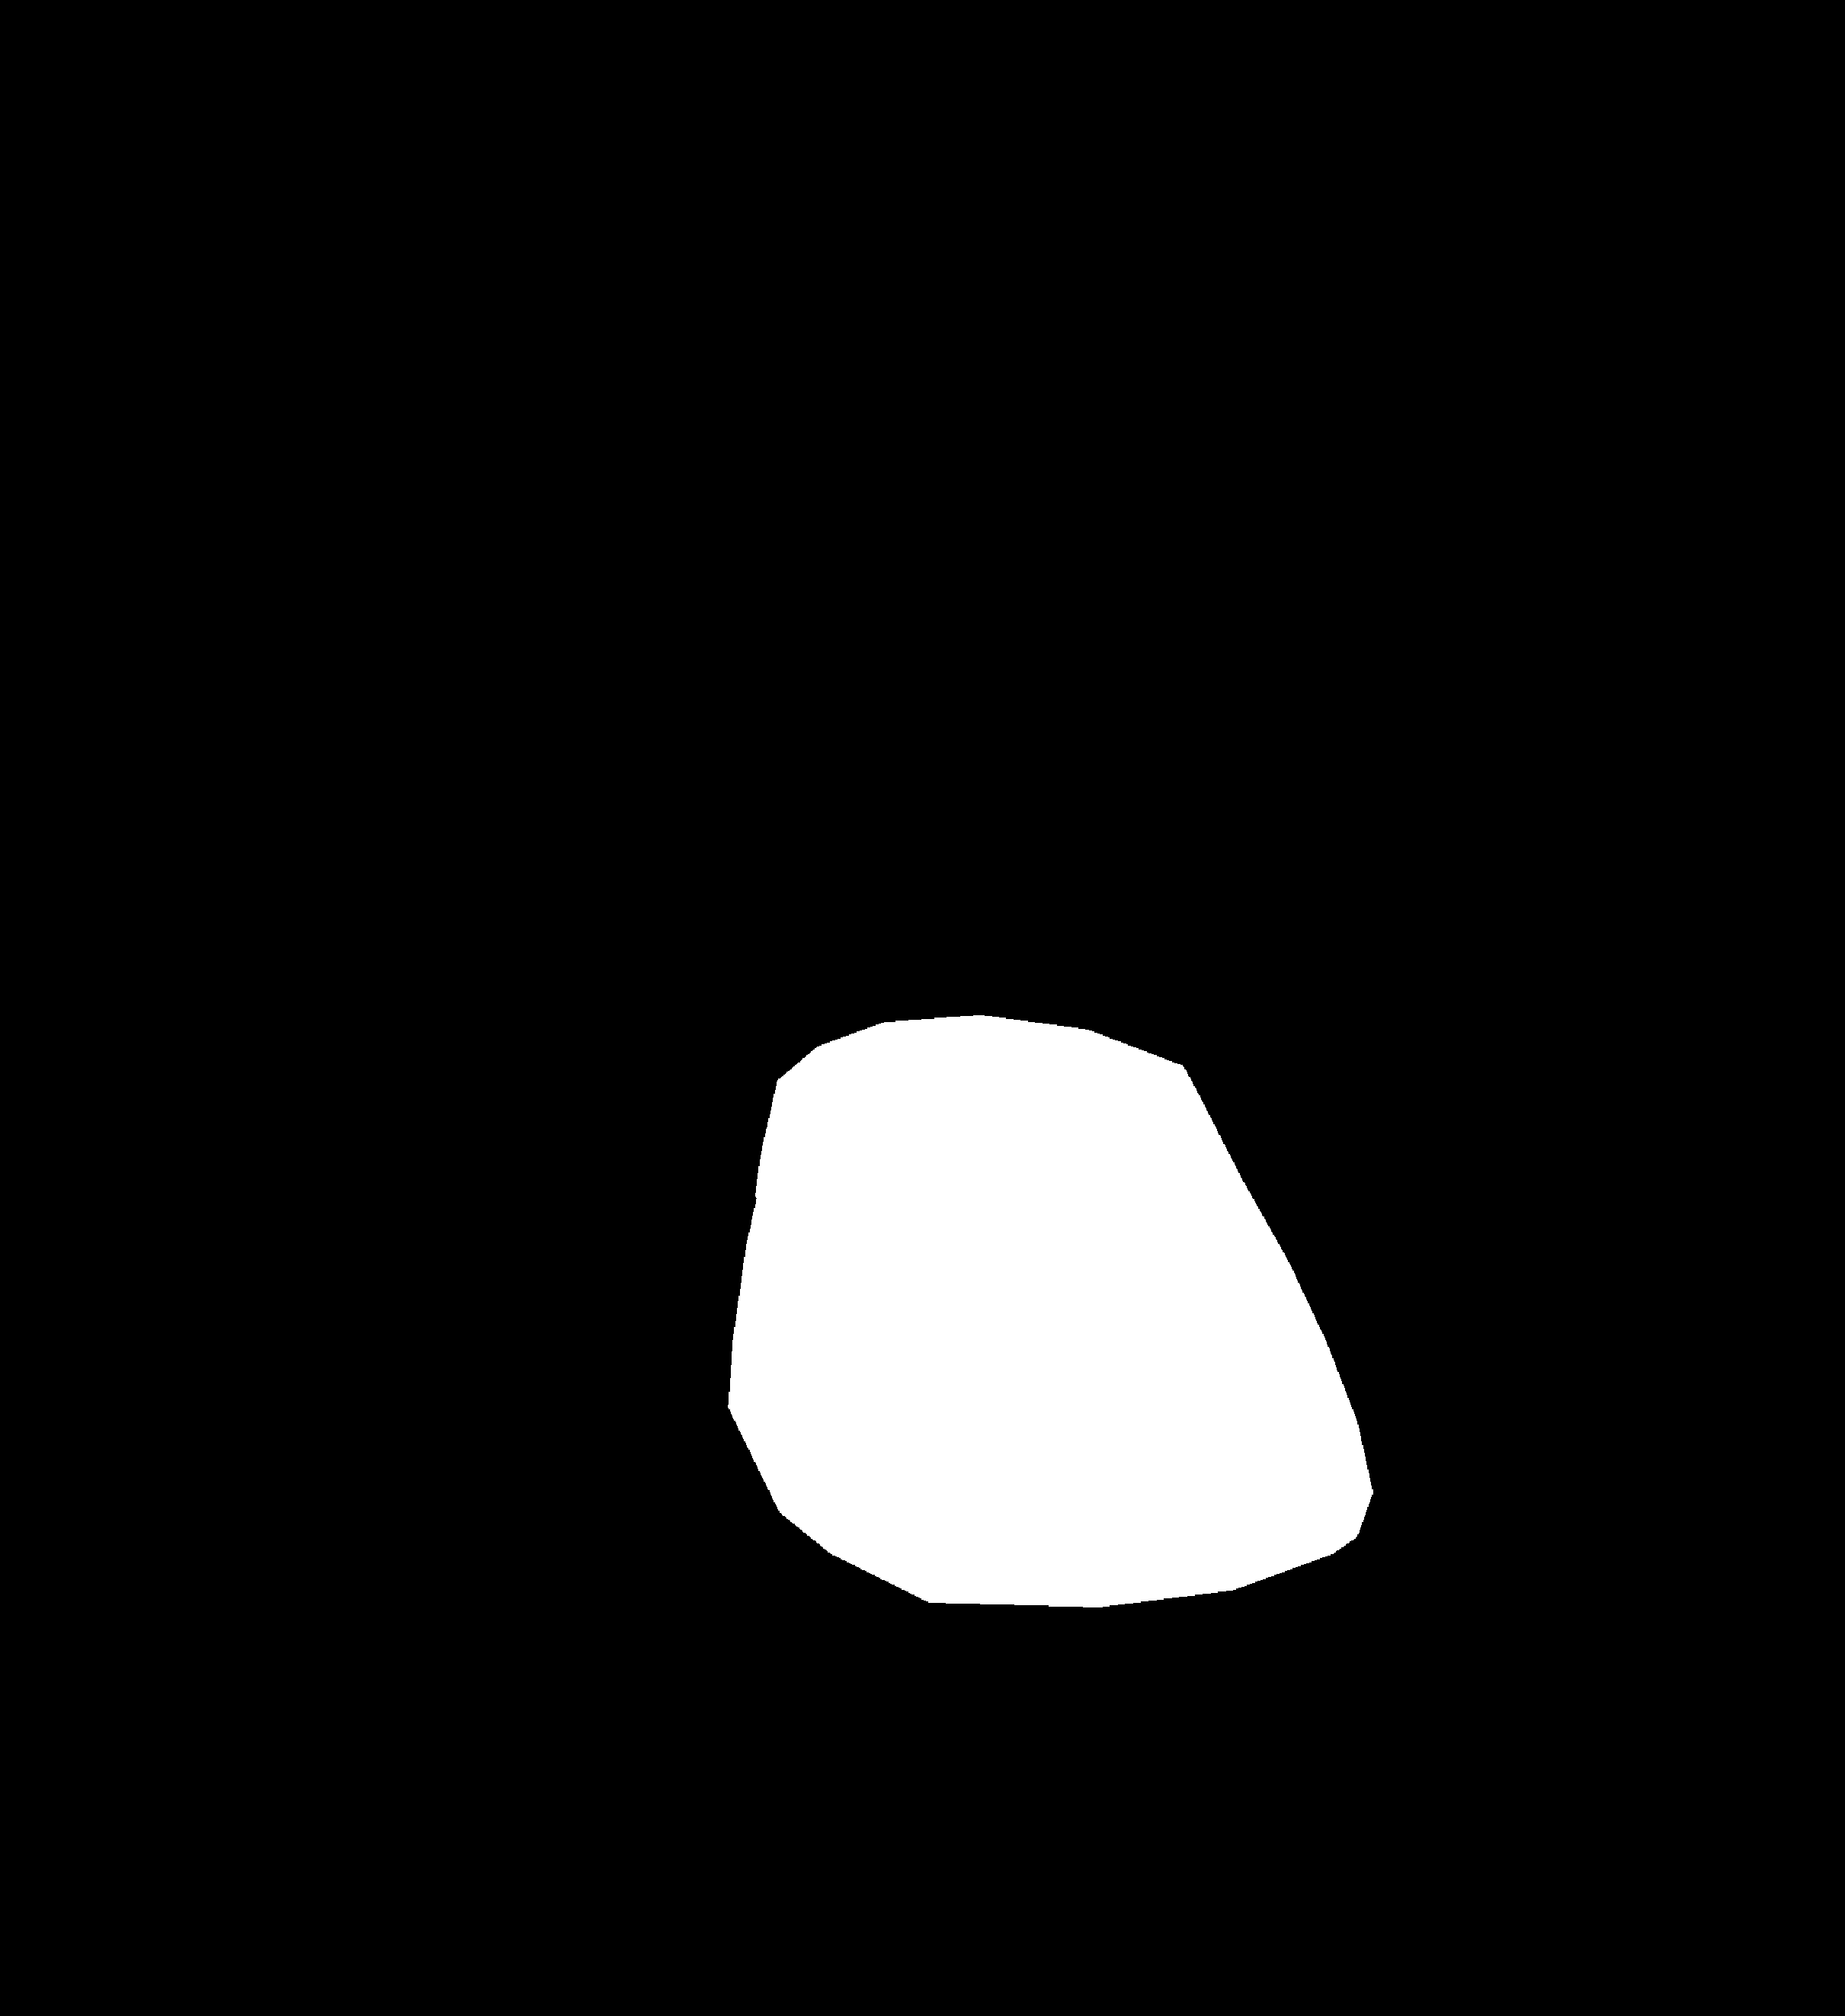heart: (725, 1122, 1369, 1619)
left_lung: (198, 286, 853, 1760)
right_lung: (1006, 323, 1654, 1661)
